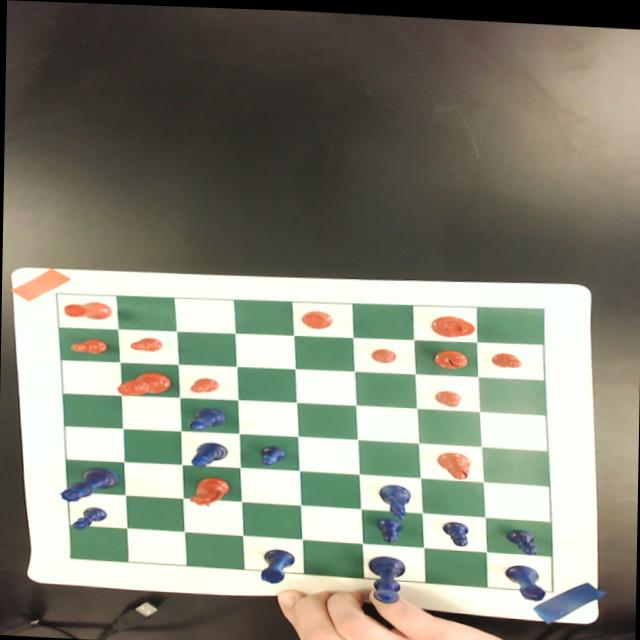B: (188, 439, 228, 468), (188, 404, 226, 430)
K: (364, 552, 406, 601)
N: (376, 479, 410, 517)
P: (502, 524, 538, 551), (70, 505, 106, 531), (440, 518, 468, 543), (374, 514, 398, 541), (258, 444, 285, 464)
Q: (58, 465, 119, 503)
R: (502, 560, 545, 597), (257, 546, 294, 583)
b: (435, 448, 469, 478), (432, 345, 467, 366)
k: (429, 311, 472, 335)
n: (186, 473, 229, 506)
p: (68, 337, 106, 353), (128, 335, 162, 352), (489, 347, 521, 365), (188, 374, 219, 392), (367, 344, 396, 362), (433, 386, 461, 403)
q: (116, 368, 170, 397)
r: (61, 299, 109, 320), (300, 307, 332, 327)
